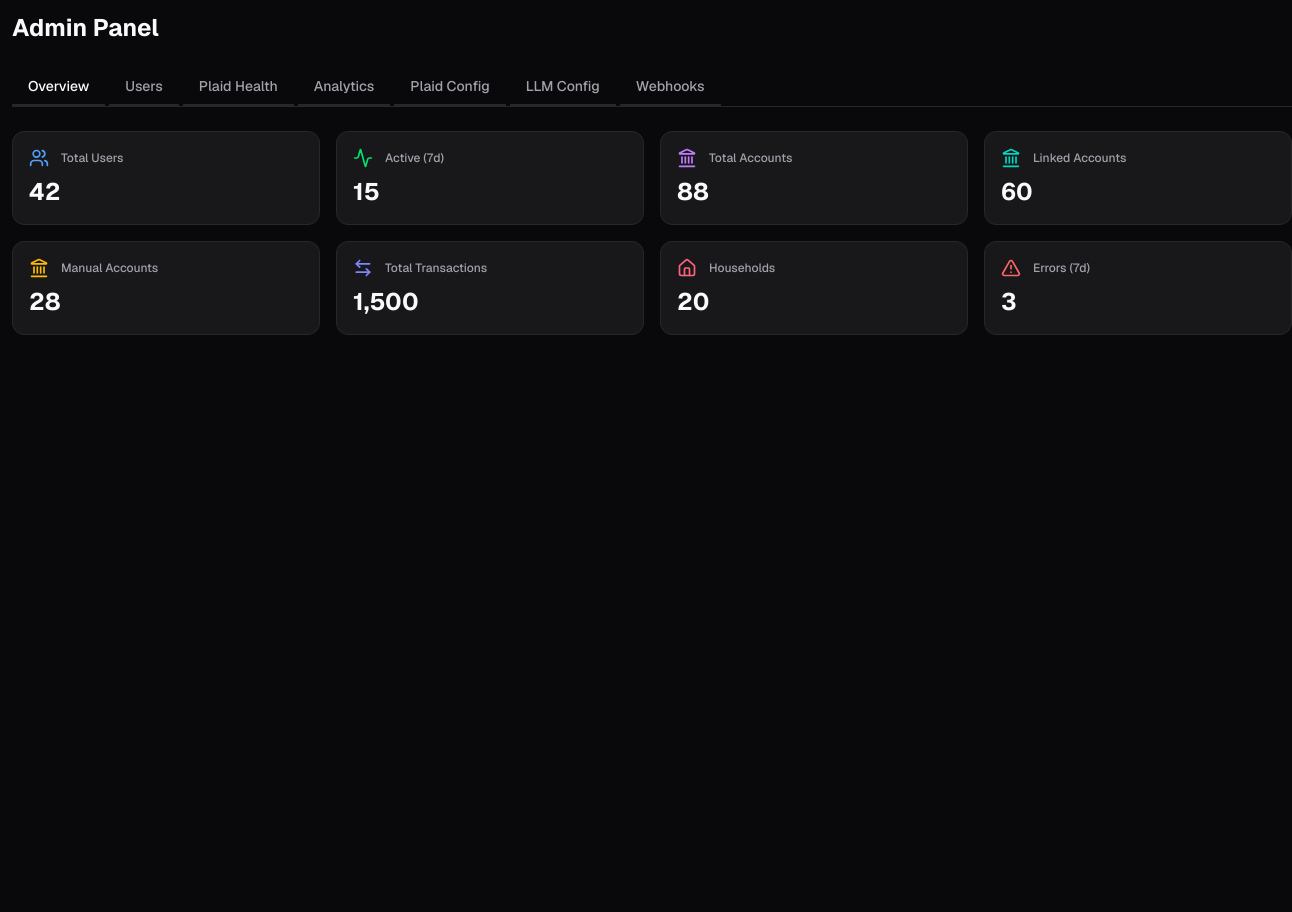
AdminPage › switches to analytics tab and shows feature adoption
The width and height of the screenshot is (1292, 912).
Click the tab "Analytics" at x=344, y=87, box [298,68,390,106]
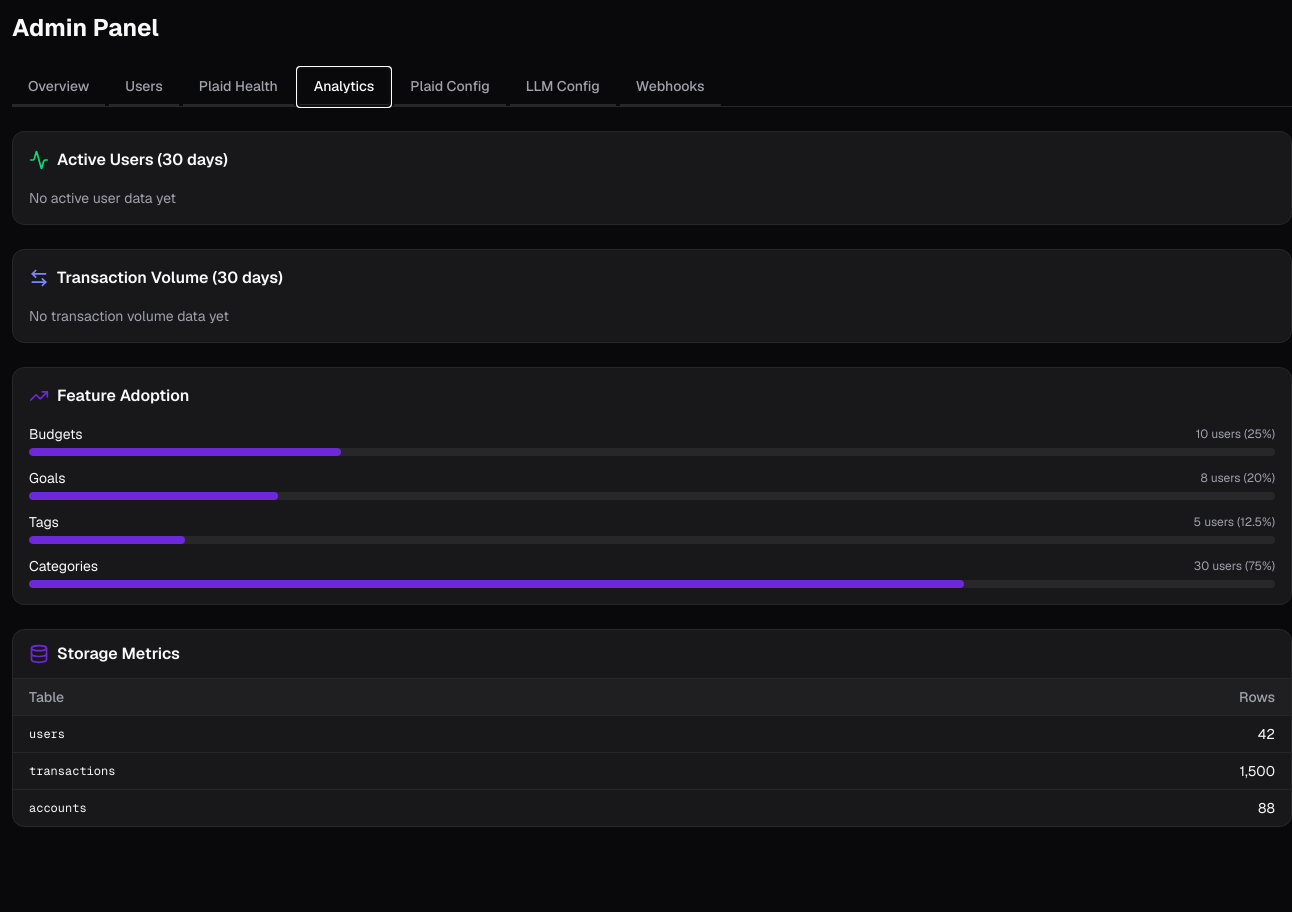
Expected: the text "budgets" is shown, [29,424,83,444]
